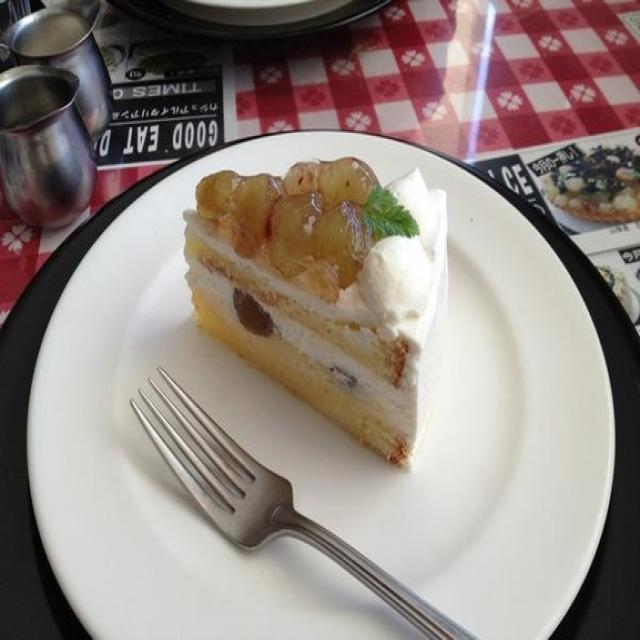蛋糕甜品: (44, 103, 604, 624)
